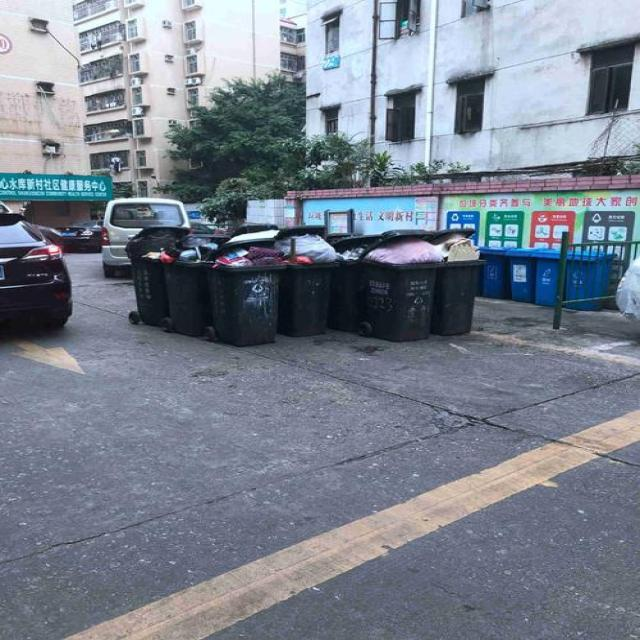garbage_bin: (564, 249, 616, 310), (480, 245, 512, 298), (504, 247, 534, 303), (534, 249, 562, 304)
overflow: (205, 228, 283, 344), (364, 239, 435, 342), (276, 233, 336, 337), (123, 226, 185, 324), (160, 242, 216, 333), (432, 233, 482, 334), (334, 243, 366, 331)
